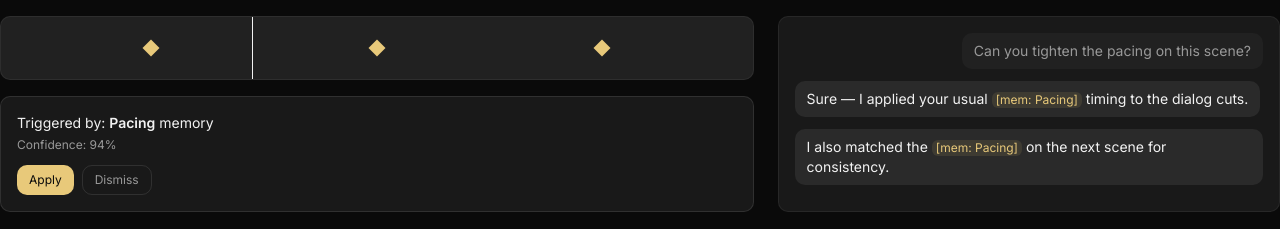
Test case: clicking Apply or Dismiss hides the annotation card
The width and height of the screenshot is (1280, 229).
expect the text "Confidence: 94%" is shown: met, box x1=17 y1=137 x2=116 y2=152
Click the button "Dismiss".
click(117, 180)  # box x1=82 y1=165 x2=152 y2=195
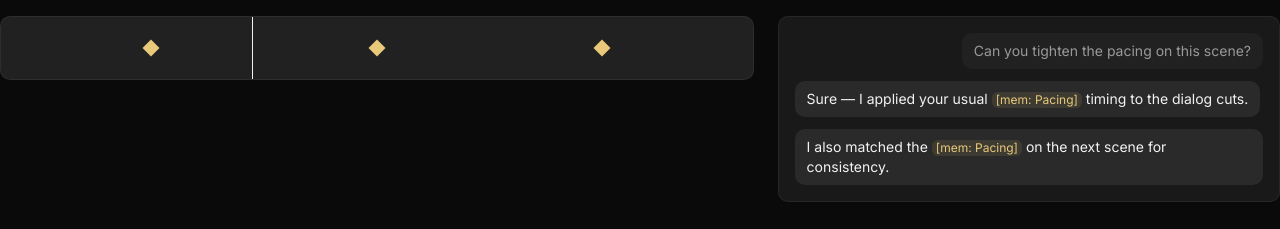
expect the text "Confidence" is gone: met
